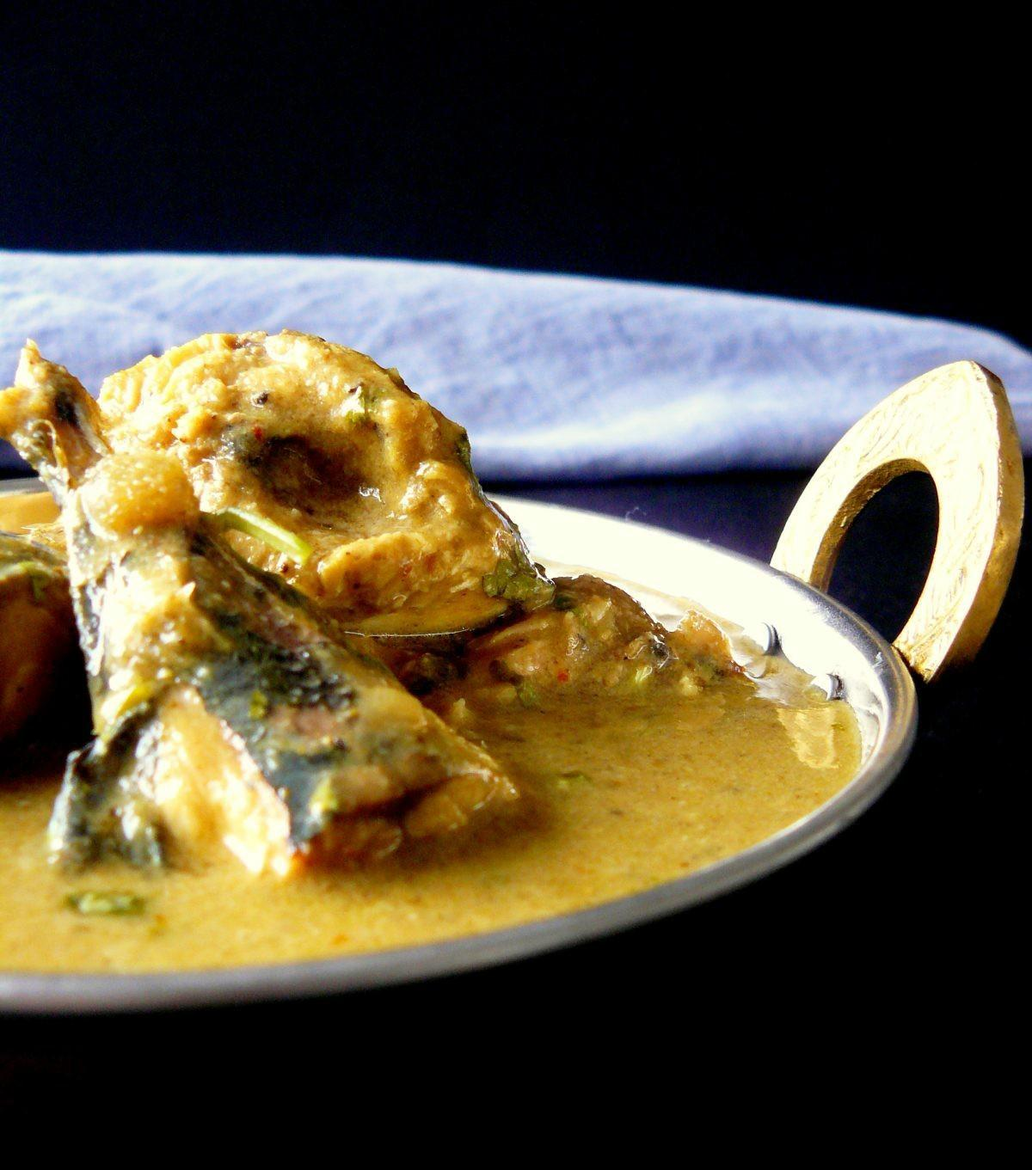FishCurry: (0, 331, 874, 979)
